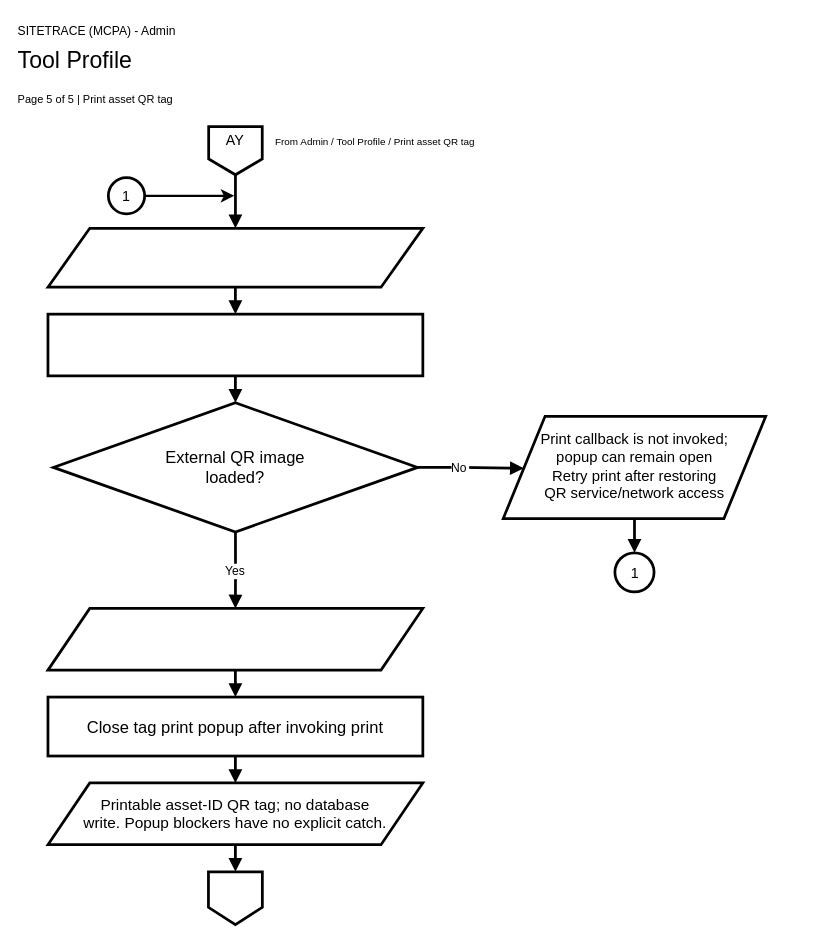
Image size: 825x945. Some labels were removed from this diagram. The shapes that lost their labels are listed below. From the top down, each one's centre as x and y in pixels, then its label:
At (x=235, y=257): "Choose Print Tag".
At (x=235, y=344): "Open print popup; request QR image encoding the asset ID".
At (x=235, y=639): "Display browser print dialog; print/save or cancel".
At (x=235, y=897): "XX".
